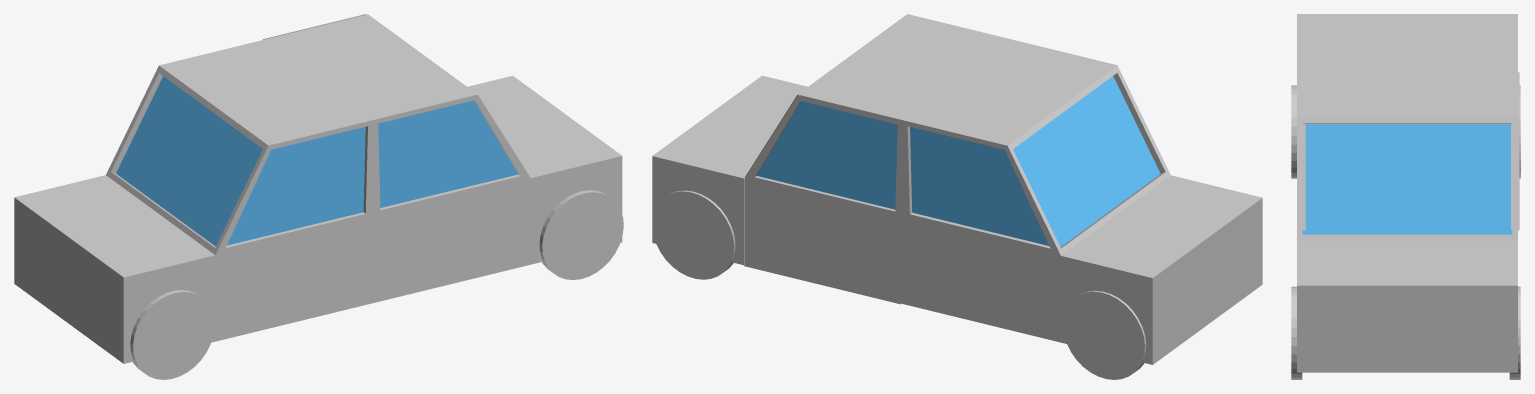
File: autoprov.dae
3 views of the same model, side by side, from view 1: azimuth 30°, elevation 25°; view 2: azimuth 150°, elevation 25°; view 3: azimuth 270°, elevation 25° (orthographic).
Visible parts, largest first — view 1: Cube, Cube_001, Cube_006, Cylinder_000, Cylinder_002; view 2: Cube, Cube_005, Cube_003, Cylinder_001, Cylinder_003; view 3: Cube, Cylinder_000, Cylinder_002, Cube_005, Cube_006, Cylinder_001.
Boxes of the visible parts, x1=… form: Cube: x1=14, y1=14, x2=622, y2=363; Cube_001: x1=215, y1=120, x2=371, y2=341; Cube_006: x1=374, y1=94, x2=530, y2=302; Cylinder_000: x1=539, y1=190, x2=623, y2=279; Cylinder_002: x1=130, y1=290, x2=214, y2=379; Cube: x1=652, y1=14, x2=1262, y2=364; Cube_005: x1=744, y1=95, x2=901, y2=304; Cube_003: x1=903, y1=120, x2=1060, y2=342; Cylinder_001: x1=652, y1=190, x2=735, y2=279; Cylinder_003: x1=1063, y1=290, x2=1146, y2=379; Cube: x1=1297, y1=14, x2=1517, y2=372; Cylinder_000: x1=1291, y1=286, x2=1302, y2=379; Cylinder_002: x1=1291, y1=85, x2=1296, y2=178; Cube_005: x1=1511, y1=72, x2=1519, y2=230; Cube_006: x1=1302, y1=123, x2=1305, y2=230; Cylinder_001: x1=1509, y1=286, x2=1520, y2=379.
Bounding box in the file's own units: 18.35 × 7.25 × 7.28.
